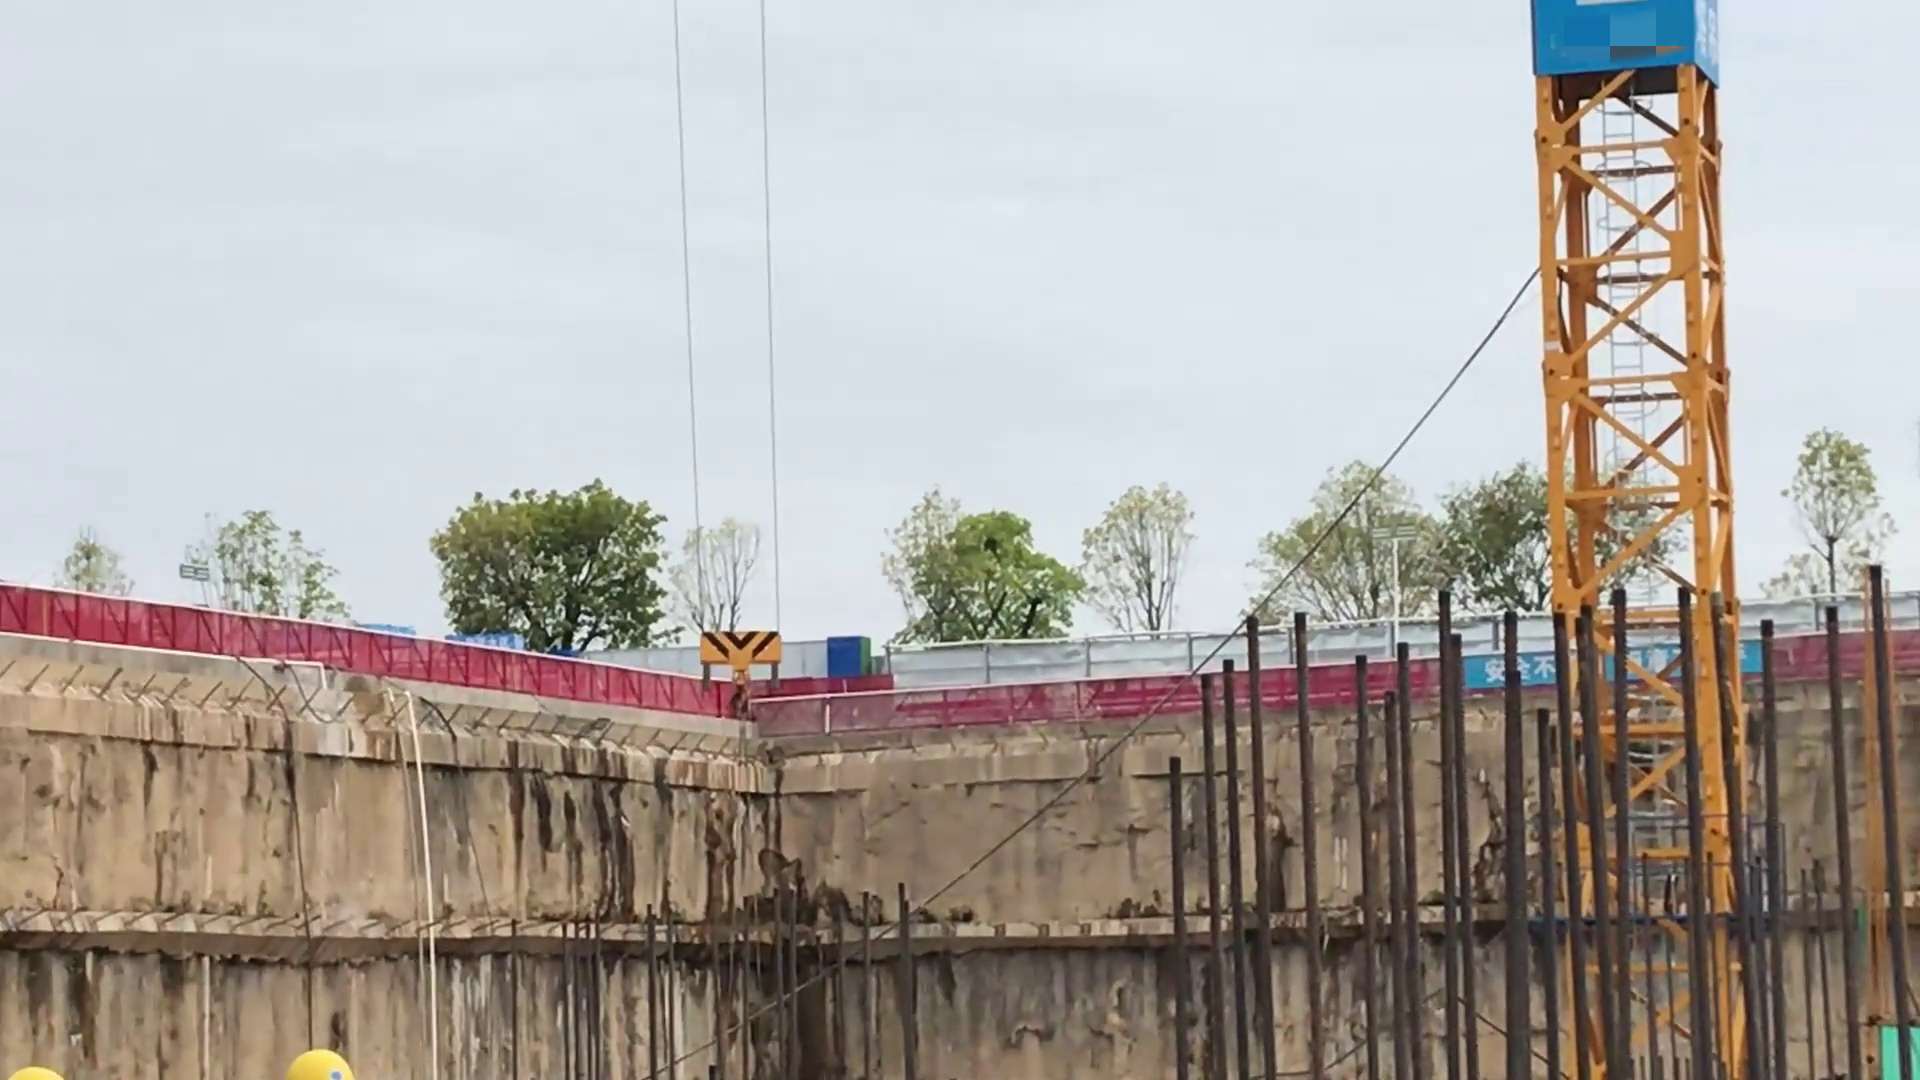helmet: (284, 1046, 353, 1080)
hook: (680, 618, 796, 735)
slogan: (1468, 642, 1762, 690)
